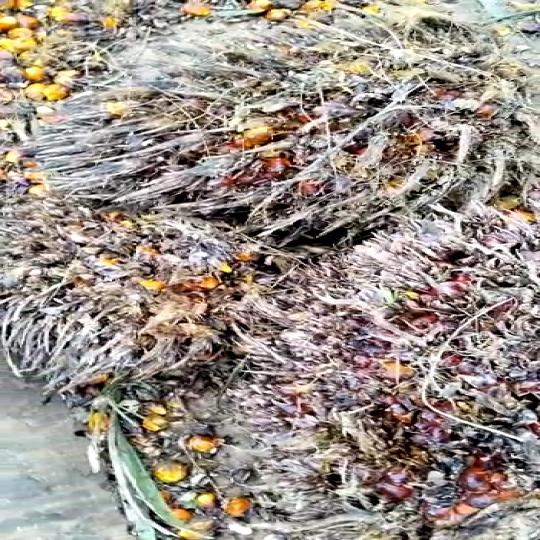terlalu masak: (38, 38, 531, 232), (0, 204, 270, 379)
